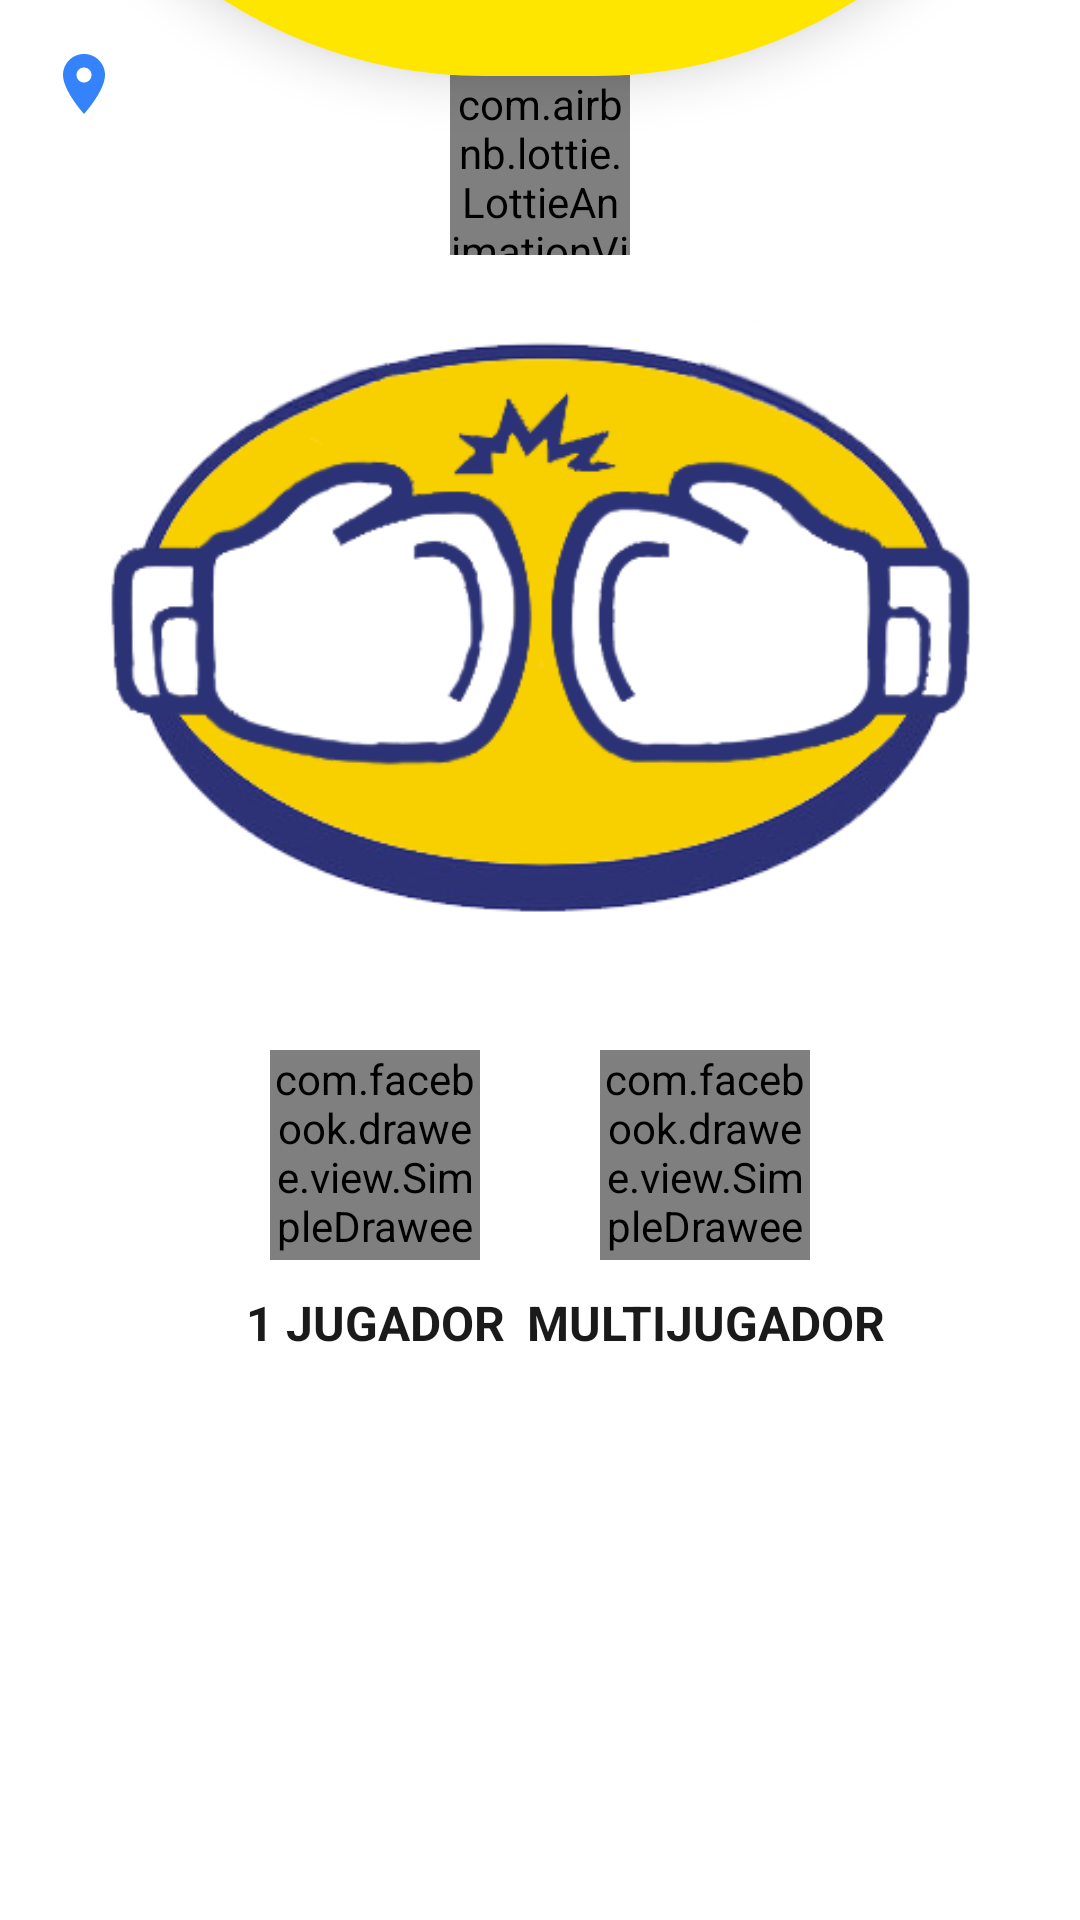

Icons on this 1080px x 1920px Android screen, each with the point to tap as (x,y):
location on: (84,84)
